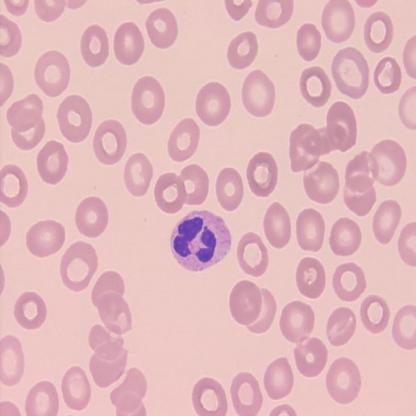Segmented neutrophil: (168, 207, 233, 271)
